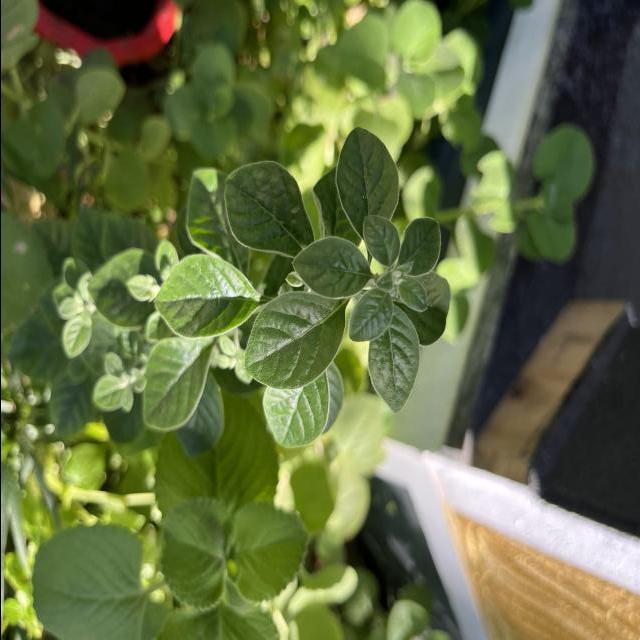Aerva lanata: (240, 290, 348, 392), (150, 252, 258, 340), (333, 122, 400, 244), (364, 306, 420, 418)
